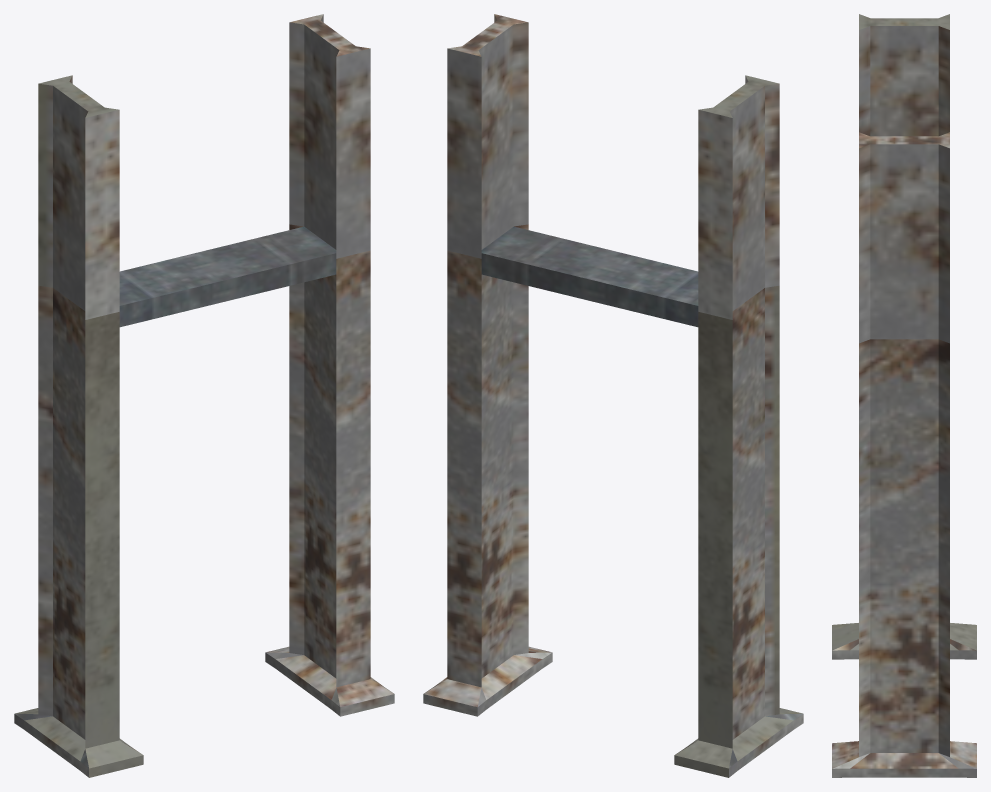
File: SmallMetalPillar2.fbx
3 views of the same model, side by side, from view 1: azimuth 30°, elevation 25°; view 2: azimuth 150°, elevation 25°; view 3: azimuth 270°, elevation 25° (orthographic). The views are drawn at different scales.
Parts seen in each view (by area): view 1: SmallMetalPillar2; view 2: SmallMetalPillar2; view 3: SmallMetalPillar2.
Part boxes in pixels (x1,y1,x2,y2): SmallMetalPillar2: [14, 14, 394, 777]; SmallMetalPillar2: [423, 14, 803, 777]; SmallMetalPillar2: [832, 14, 976, 777].
Size of the model in its own units: 109 by 256 by 517.
